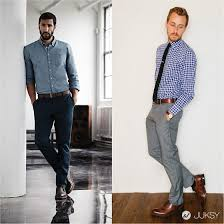F_belt: (34, 91, 75, 99), (147, 99, 180, 106)
F_dress pants: (140, 105, 198, 204), (31, 98, 77, 190)
F_shirt: (20, 39, 82, 92)
F_tie: (153, 43, 170, 101)
